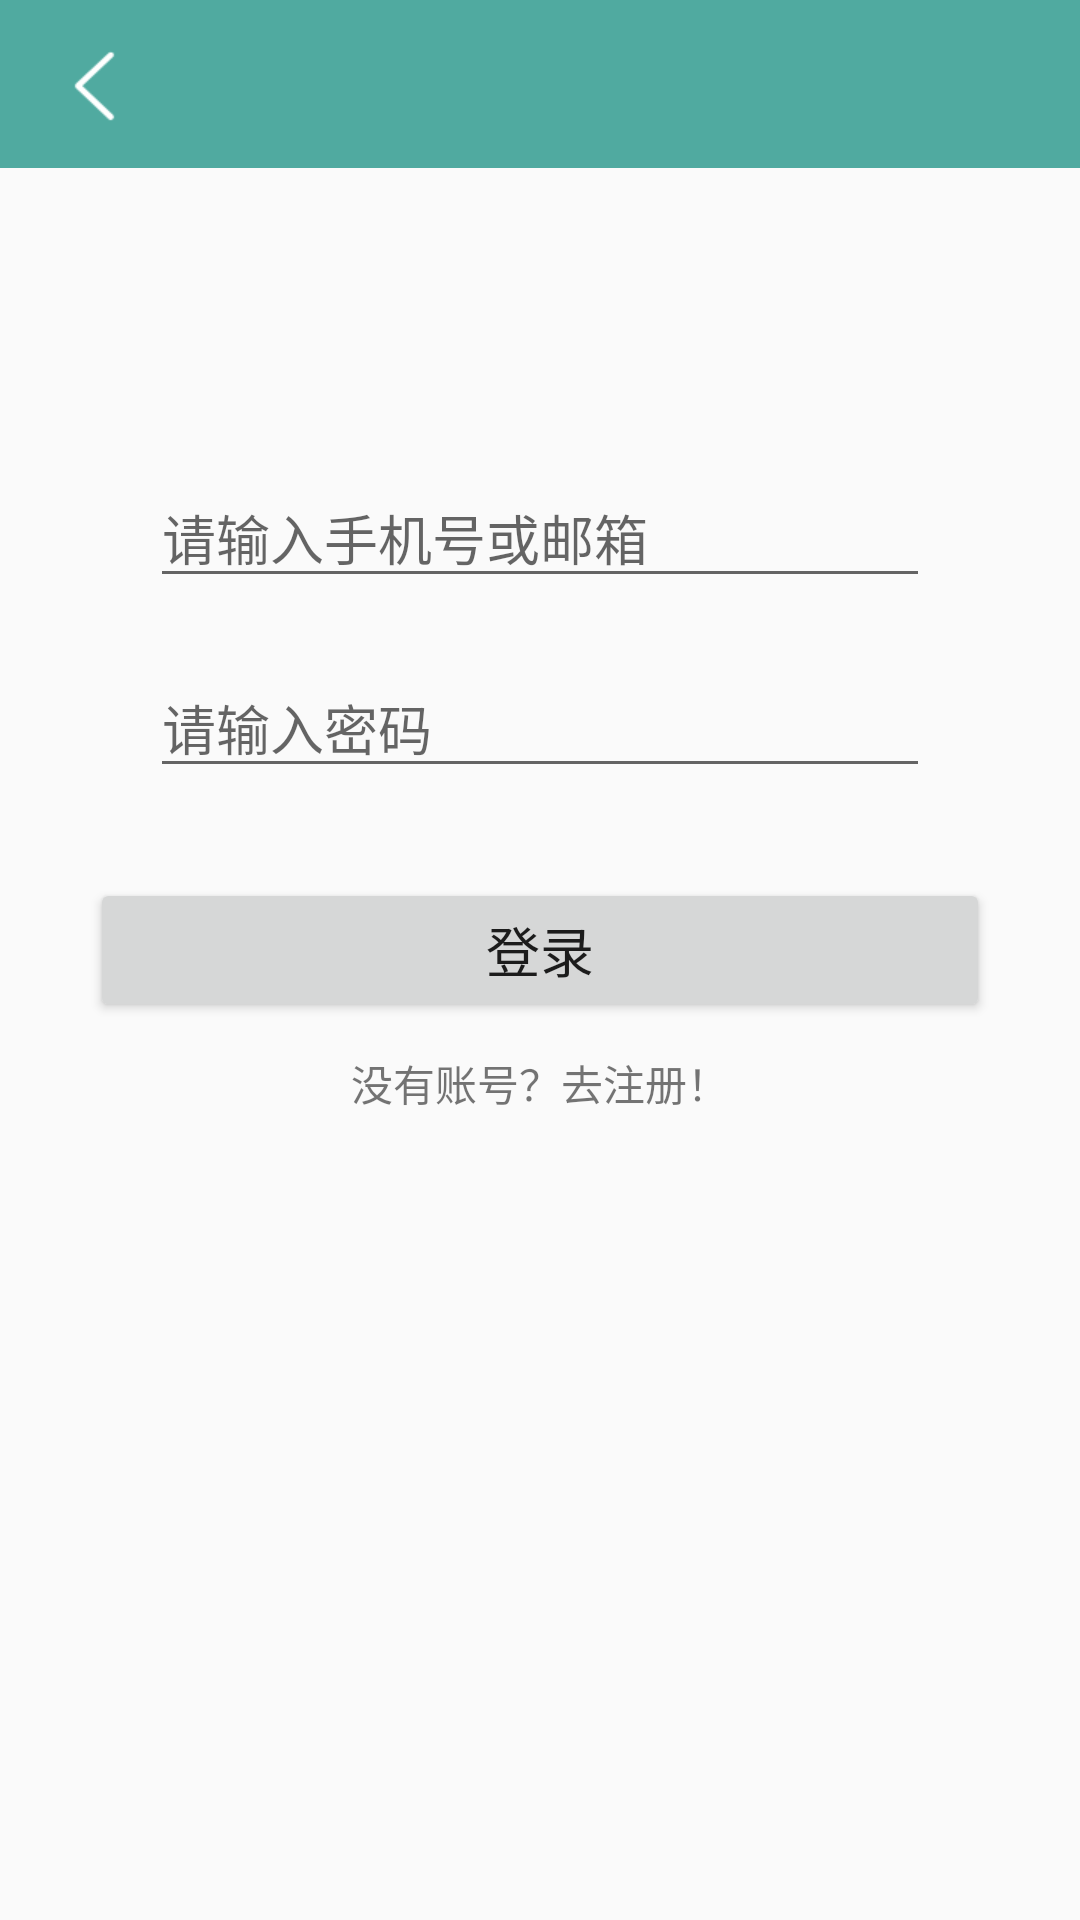

Icons on this 1080*1920 Android screen, each with its box as Rect(x1, y1, x2, y2):
back: Rect(75, 52, 114, 121)
